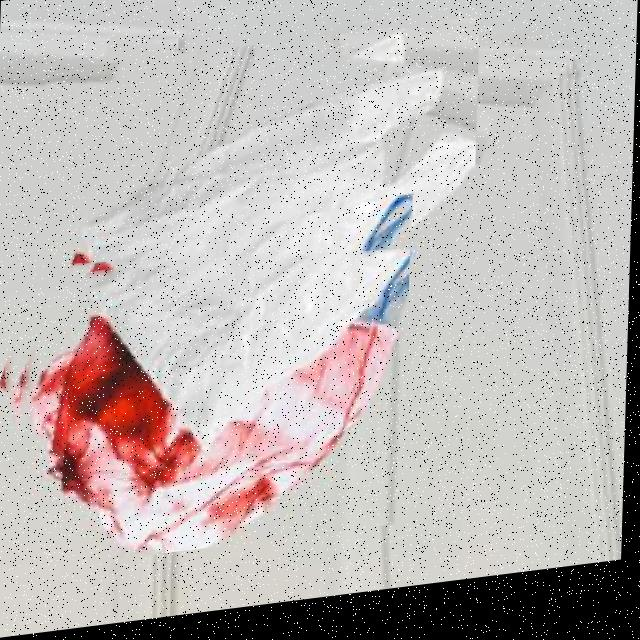litter: (18, 28, 479, 481), (1, 229, 412, 574)
